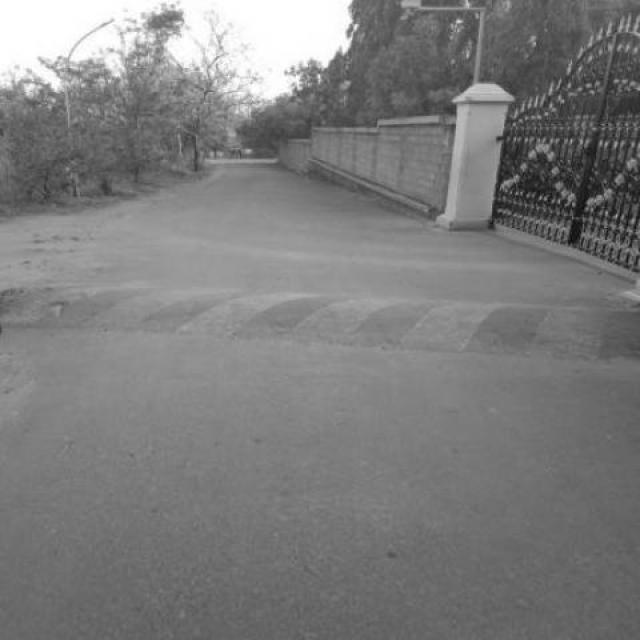Speed Bump: (0, 279, 639, 372)
